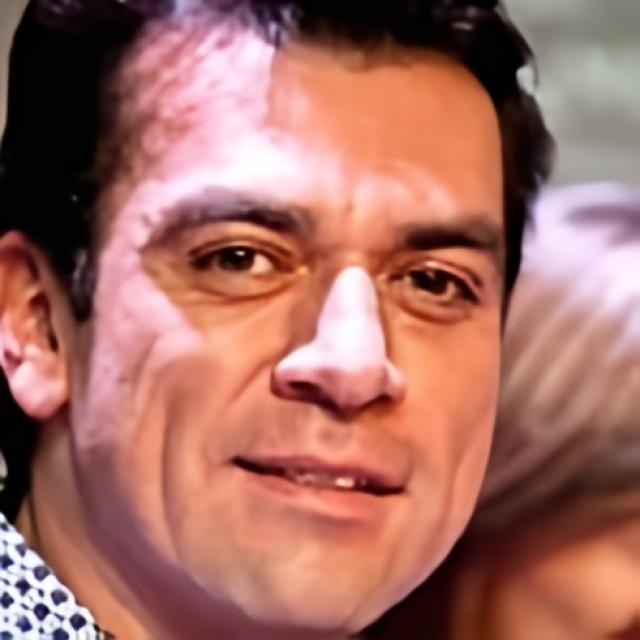content: (72, 26, 506, 636)
